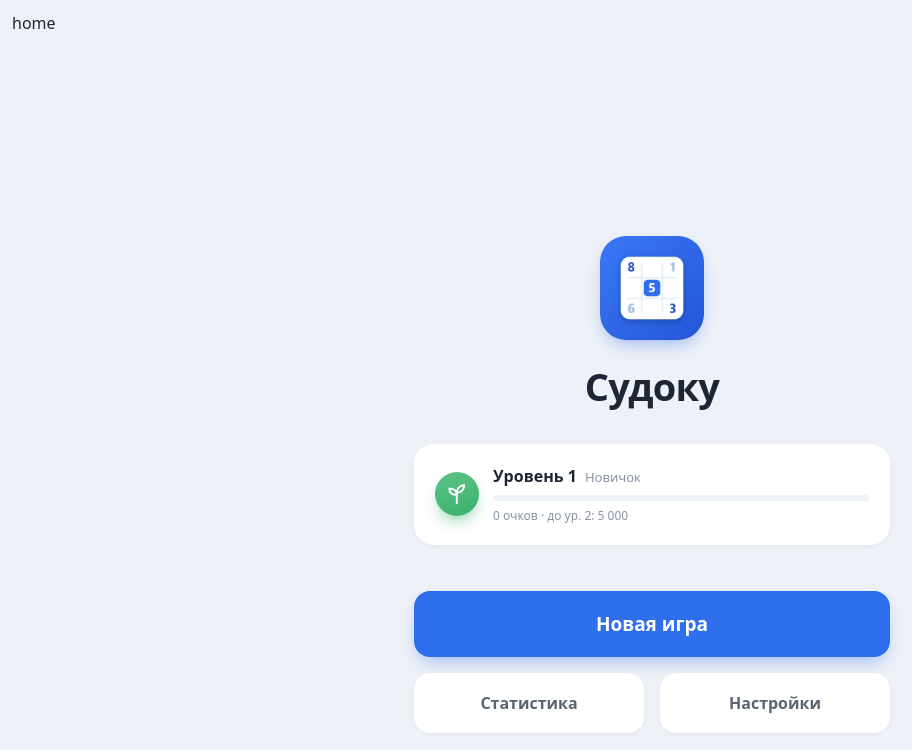
Scenario: HomeScreen › Настройки ведут на экран настроек
Click the button with test id "home-settings" at (775, 702), box [660,672,890,732]
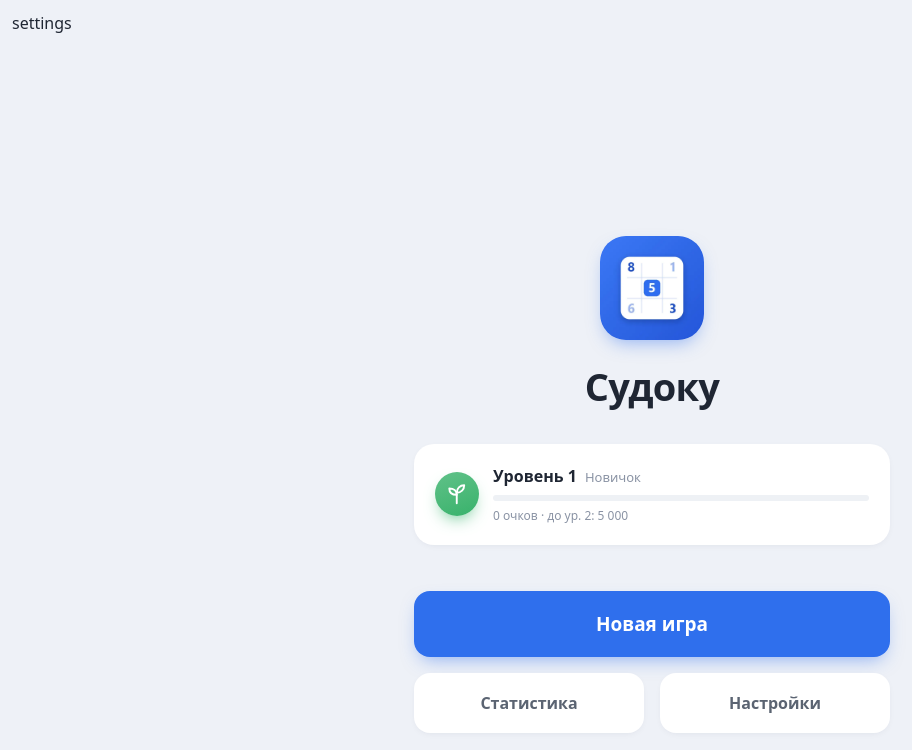
Check: the text with test id "current-screen" reads "settings", box [12,12,72,34]
